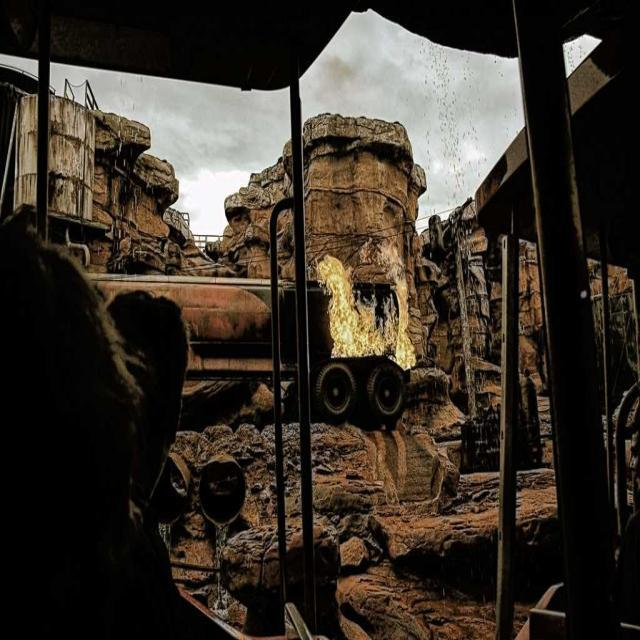Fire: (313, 245, 428, 366)
